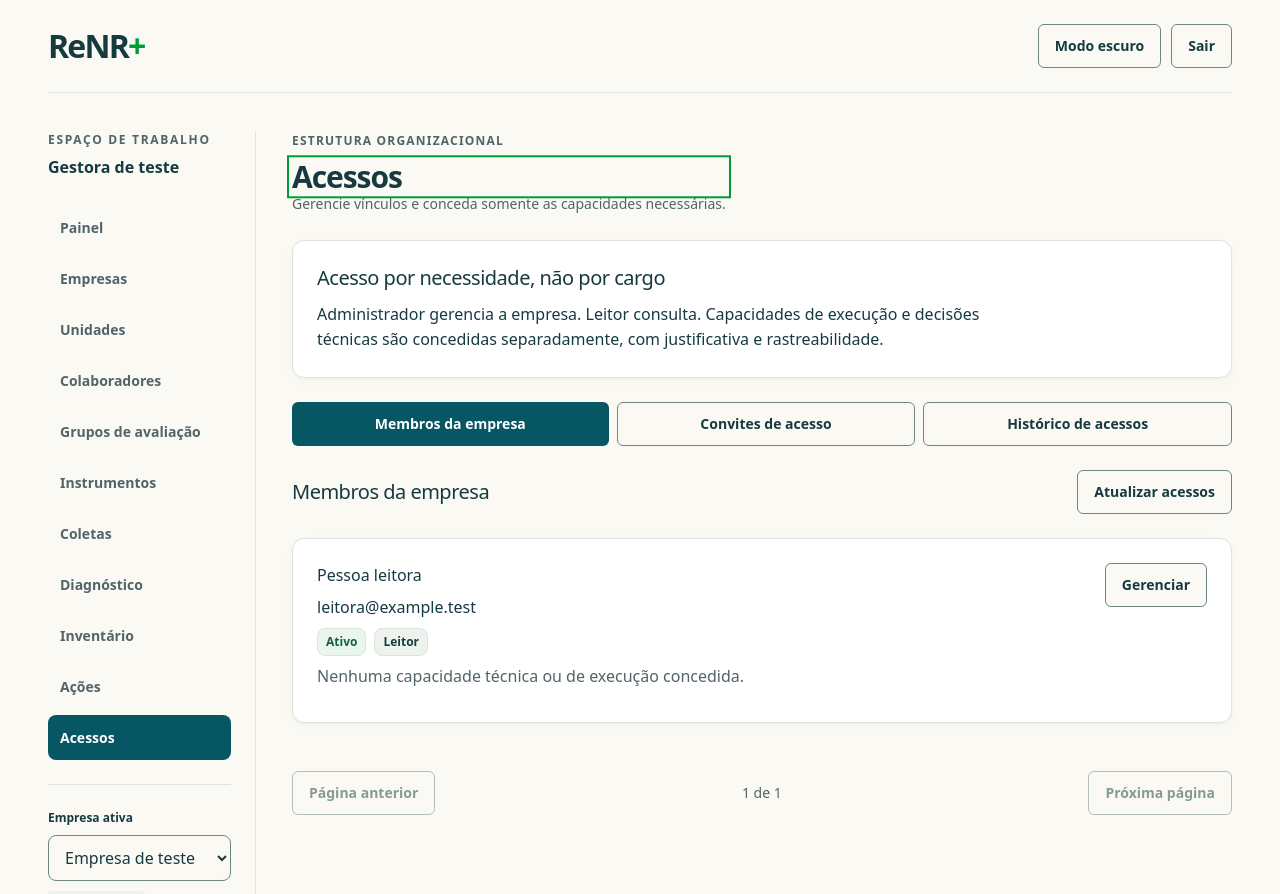
it: preserva rascunho em conflito e exige recarregar antes de reenviar
Click the button named "Gerenciar Pessoa leitora".
click(1156, 585)  # box [1105,563,1207,607]
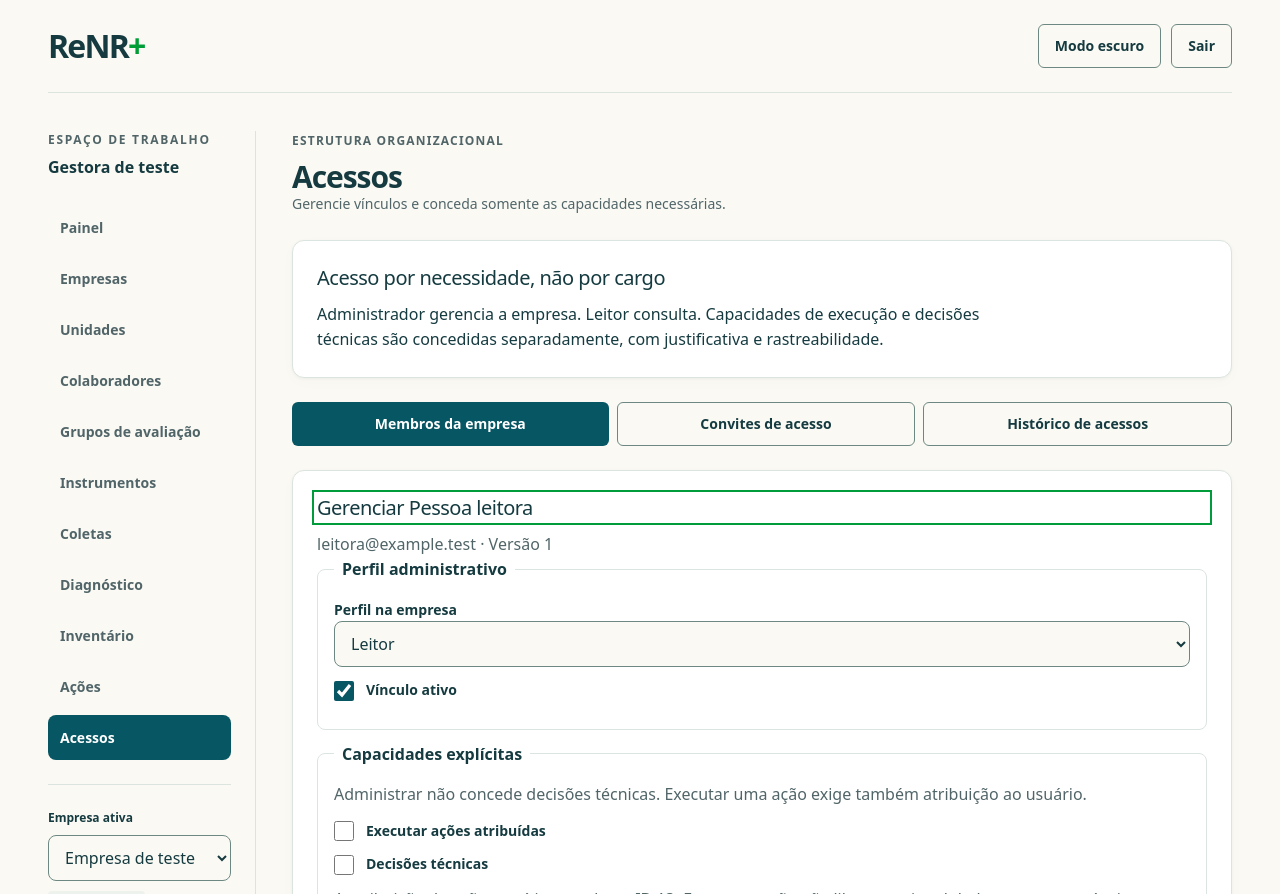
Click the checkbox labelled "Decisões técnicas".
click(344, 865)  # box [334,855,354,875]
(page scrolled)
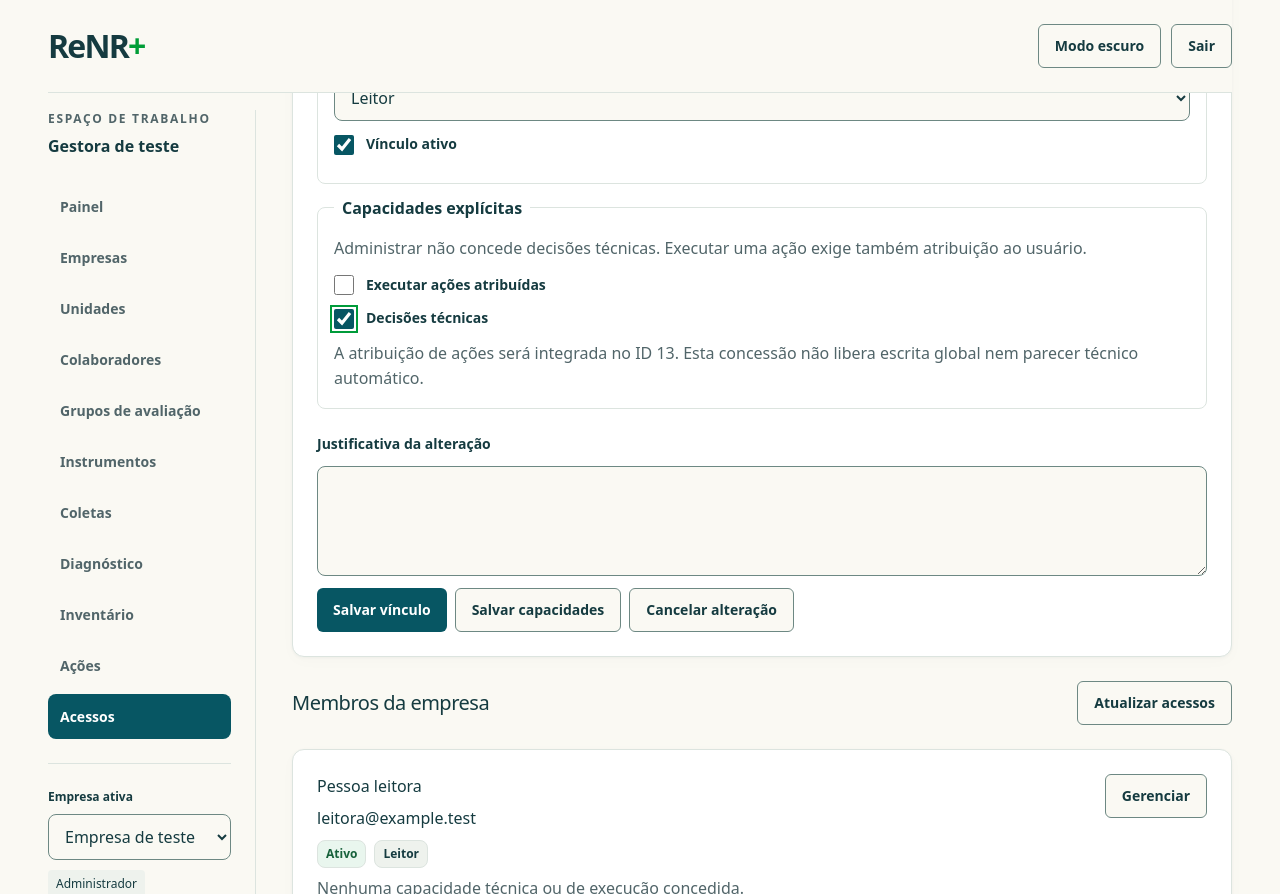
Type "Permissão revisada" into the text box labelled "Justificativa da alteração".
click(762, 521); type("Permissão revisada")  # box [317,466,1207,576]
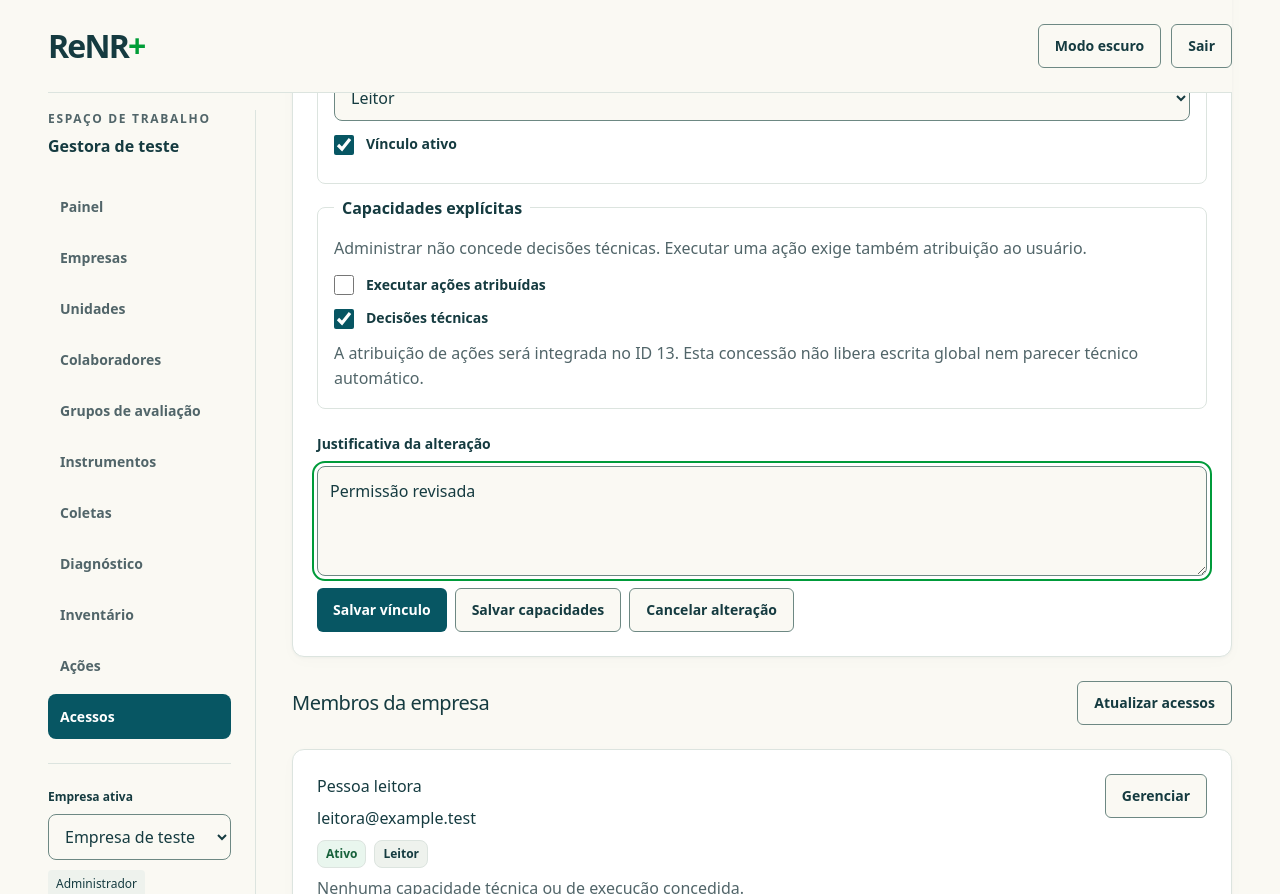
Click the button "Salvar capacidades".
click(538, 610)  # box [455,588,621,632]
(page scrolled)
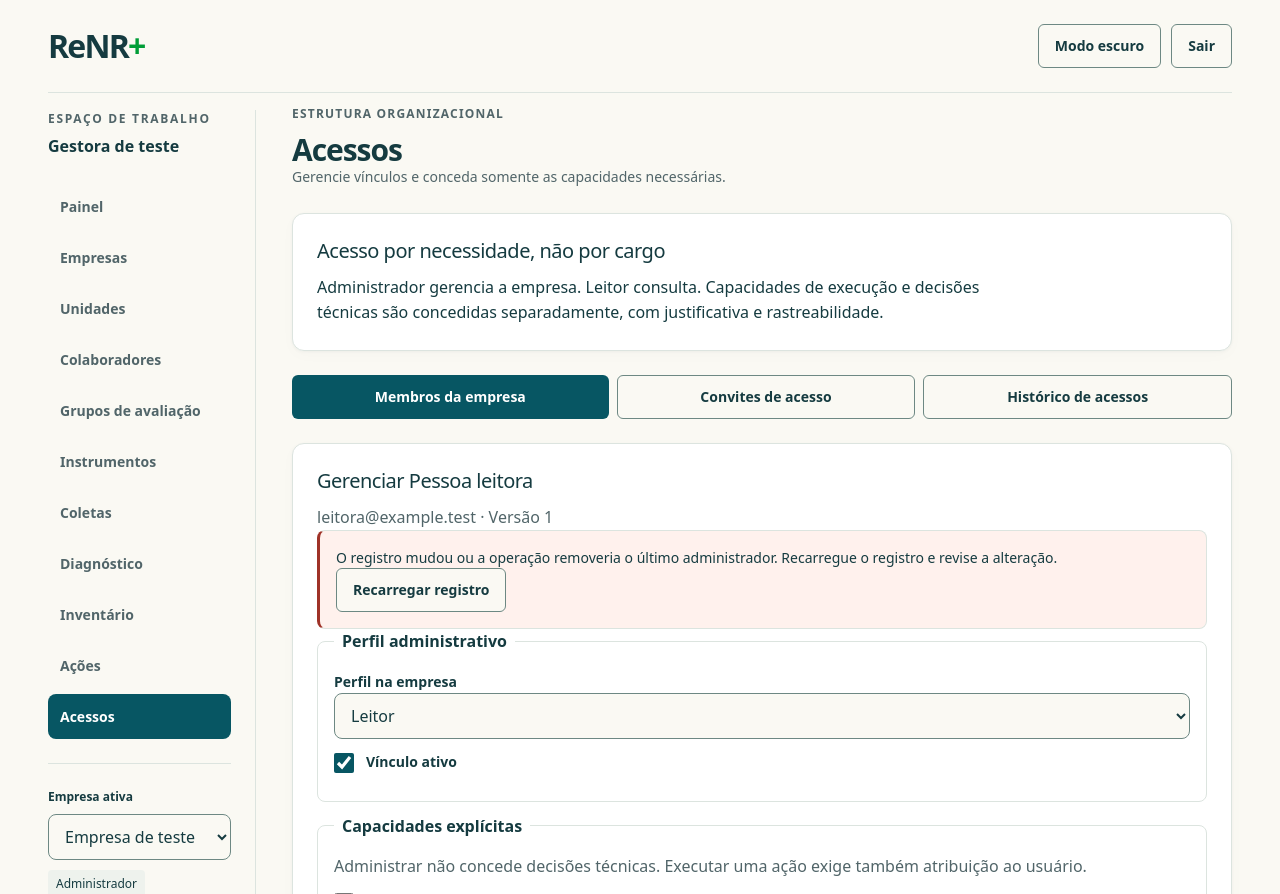
Expected: the message shows "O registro mudou", [336,548,1057,567]
Click the button "Recarregar registro".
click(421, 590)  # box [336,568,506,612]
(page scrolled)
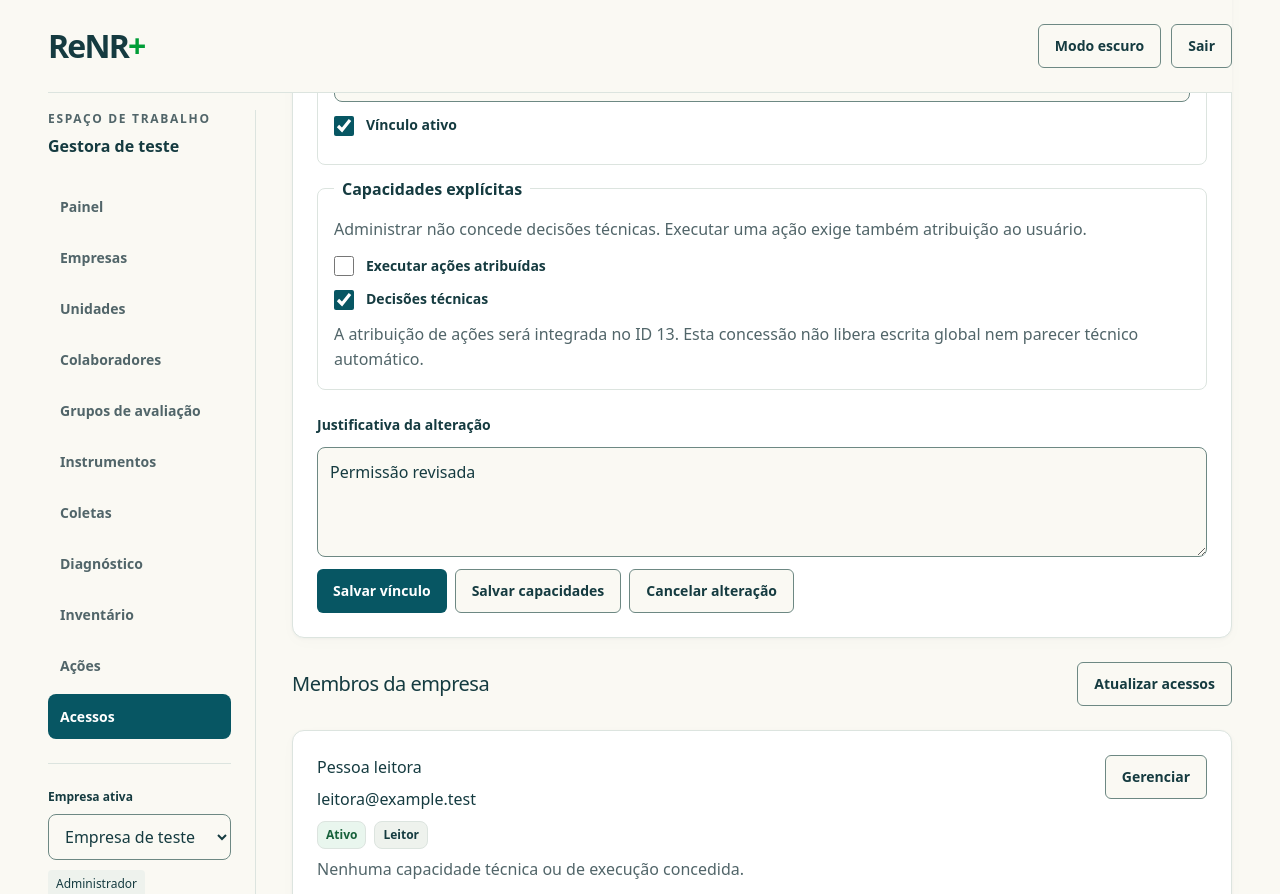
Expected: the button "Salvar capacidades" is enabled, [455,569,621,613]
